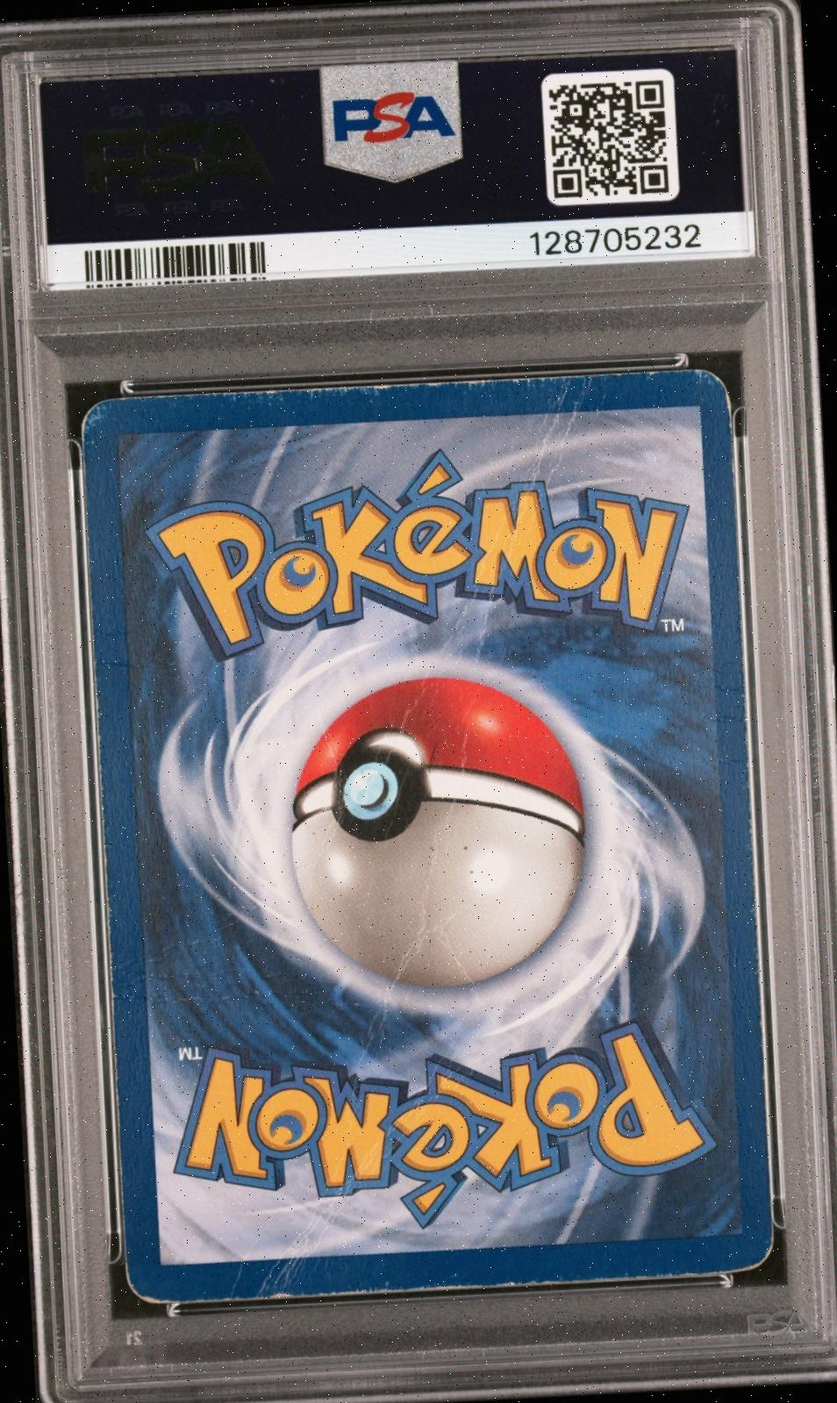card-2UtV: (80, 368, 775, 1304)
